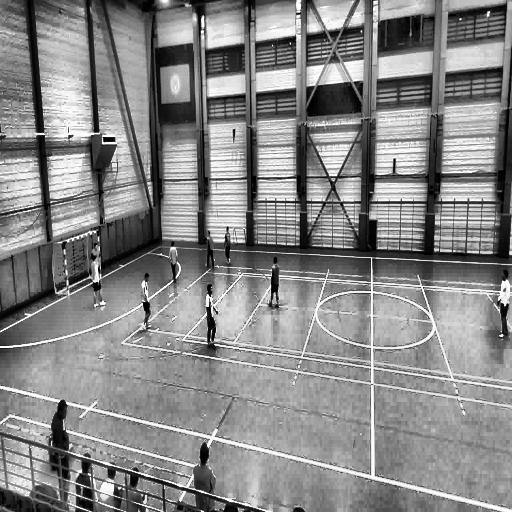ball: (160, 251, 164, 259)
player: (48, 400, 71, 508), (494, 267, 512, 339), (205, 283, 218, 348), (92, 253, 106, 308), (142, 272, 152, 329), (270, 256, 280, 307), (91, 242, 103, 284), (170, 241, 180, 283), (206, 230, 215, 270), (224, 226, 232, 265)
